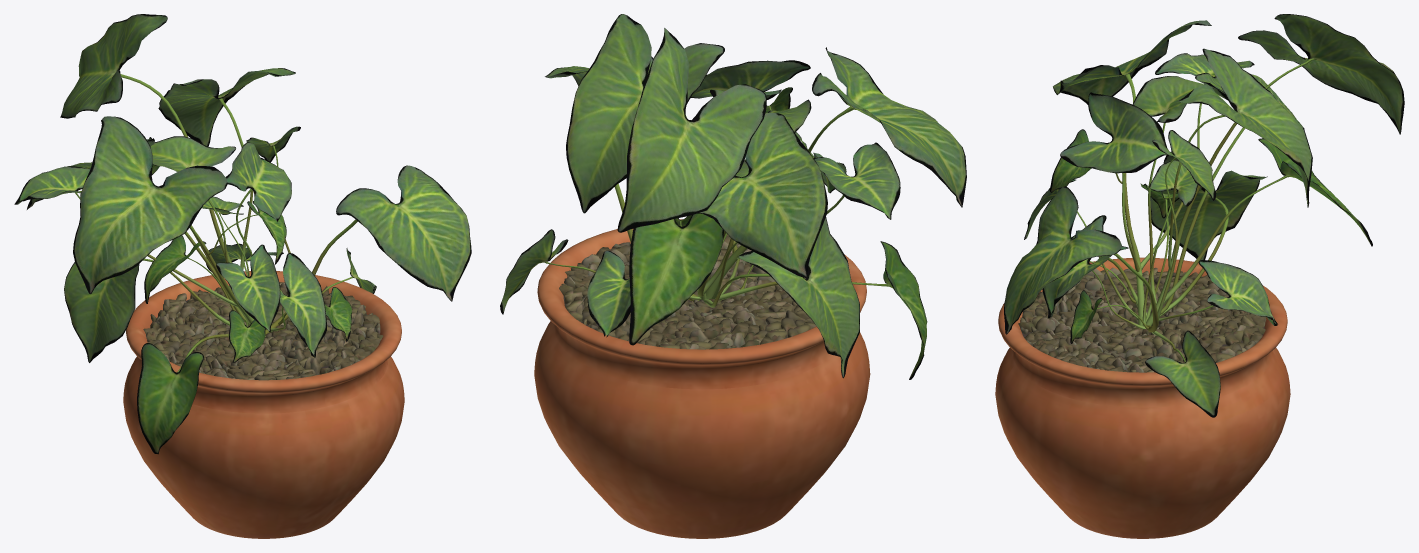
Rendered from potted_plant_02.gltf.
The picture shows the model from 3 angles, left to right: view 1: azimuth 30°, elevation 25°; view 2: azimuth 150°, elevation 25°; view 3: azimuth 270°, elevation 25°; orthographic projection. The views are drawn at different scales.
Visible parts, largest first — view 1: potted_plant_02_leaves, potted_plant_02_pot, potted_plant_02_dirt; view 2: potted_plant_02_leaves, potted_plant_02_pot, potted_plant_02_dirt; view 3: potted_plant_02_leaves, potted_plant_02_pot, potted_plant_02_dirt.
Part boxes in pixels (left/top/right/bottom): potted_plant_02_leaves: left=14, top=14, right=471, bottom=454; potted_plant_02_pot: left=123, top=271, right=404, bottom=538; potted_plant_02_dirt: left=143, top=282, right=383, bottom=380; potted_plant_02_leaves: left=500, top=14, right=966, bottom=379; potted_plant_02_pot: left=534, top=219, right=870, bottom=538; potted_plant_02_dirt: left=559, top=234, right=816, bottom=349; potted_plant_02_leaves: left=1004, top=14, right=1404, bottom=417; potted_plant_02_pot: left=995, top=257, right=1290, bottom=538; potted_plant_02_dirt: left=1018, top=267, right=1266, bottom=372.
Bounding box in the file's own units: 0.7012 × 0.8412 × 0.6574.
Materials: 2 (2 with a texture image).
